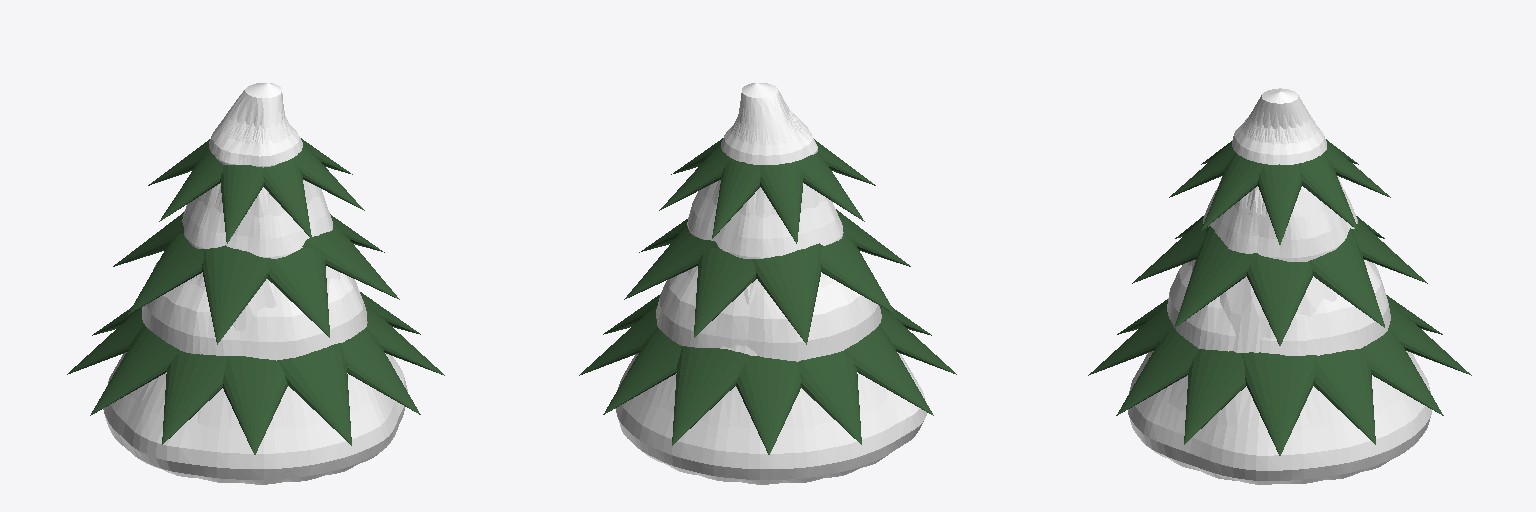
3 renders of one model, left to right at view 1: azimuth 30°, elevation 25°; view 2: azimuth 150°, elevation 25°; view 3: azimuth 270°, elevation 25°, orthographic.
Visible parts, largest first — view 1: snow1, snow3, snow2, snow4, sheet12, sheet1, sheet20, sheet11, sheet13, sheet10, sheet2, sheet16 (+9 smaller); view 2: snow1, snow3, snow2, snow4, sheet7, sheet8, sheet19, sheet9, sheet15, sheet10, sheet6, sheet16 (+9 smaller); view 3: snow1, snow3, snow2, snow4, sheet4, sheet3, sheet5, sheet14, sheet17, sheet18, sheet2, sheet6 (+9 smaller).
Boxes of the visible parts, x1=… form: snow1: x1=103, y1=266, x2=407, y2=484; snow3: x1=142, y1=262, x2=367, y2=360; snow2: x1=182, y1=180, x2=332, y2=258; snow4: x1=209, y1=83, x2=302, y2=167; sheet12: x1=223, y1=356, x2=287, y2=454; sheet1: x1=277, y1=343, x2=351, y2=445; sheet20: x1=202, y1=247, x2=271, y2=344; sheet11: x1=162, y1=351, x2=226, y2=444; sheet13: x1=267, y1=247, x2=329, y2=337; sheet10: x1=90, y1=324, x2=179, y2=415; sheet2: x1=341, y1=327, x2=420, y2=414; sheet16: x1=128, y1=233, x2=227, y2=314; snow1: x1=615, y1=270, x2=926, y2=484; snow3: x1=656, y1=266, x2=881, y2=361; snow2: x1=687, y1=180, x2=843, y2=258; snow4: x1=721, y1=83, x2=817, y2=164; sheet7: x1=672, y1=346, x2=749, y2=445; sheet8: x1=736, y1=356, x2=800, y2=454; sheet19: x1=752, y1=243, x2=823, y2=344; sheet9: x1=798, y1=351, x2=861, y2=444; sheet15: x1=694, y1=248, x2=756, y2=337; sheet10: x1=844, y1=324, x2=933, y2=415; sheet6: x1=603, y1=327, x2=681, y2=414; sheet16: x1=820, y1=233, x2=895, y2=314; snow1: x1=1128, y1=260, x2=1431, y2=484; snow3: x1=1167, y1=260, x2=1390, y2=355; snow2: x1=1203, y1=176, x2=1357, y2=261; snow4: x1=1232, y1=88, x2=1326, y2=164; sheet4: x1=1241, y1=352, x2=1317, y2=455; sheet3: x1=1184, y1=349, x2=1245, y2=444; sheet5: x1=1314, y1=349, x2=1375, y2=444; sheet14: x1=1247, y1=256, x2=1312, y2=345; sheet17: x1=1175, y1=226, x2=1260, y2=327; sheet18: x1=1308, y1=228, x2=1384, y2=327; sheet2: x1=1116, y1=329, x2=1198, y2=415; sheet6: x1=1361, y1=330, x2=1443, y2=415.
Bounding box in the file's own units: 2.66 × 2.59 × 2.66.
2 materials, 2 textured.